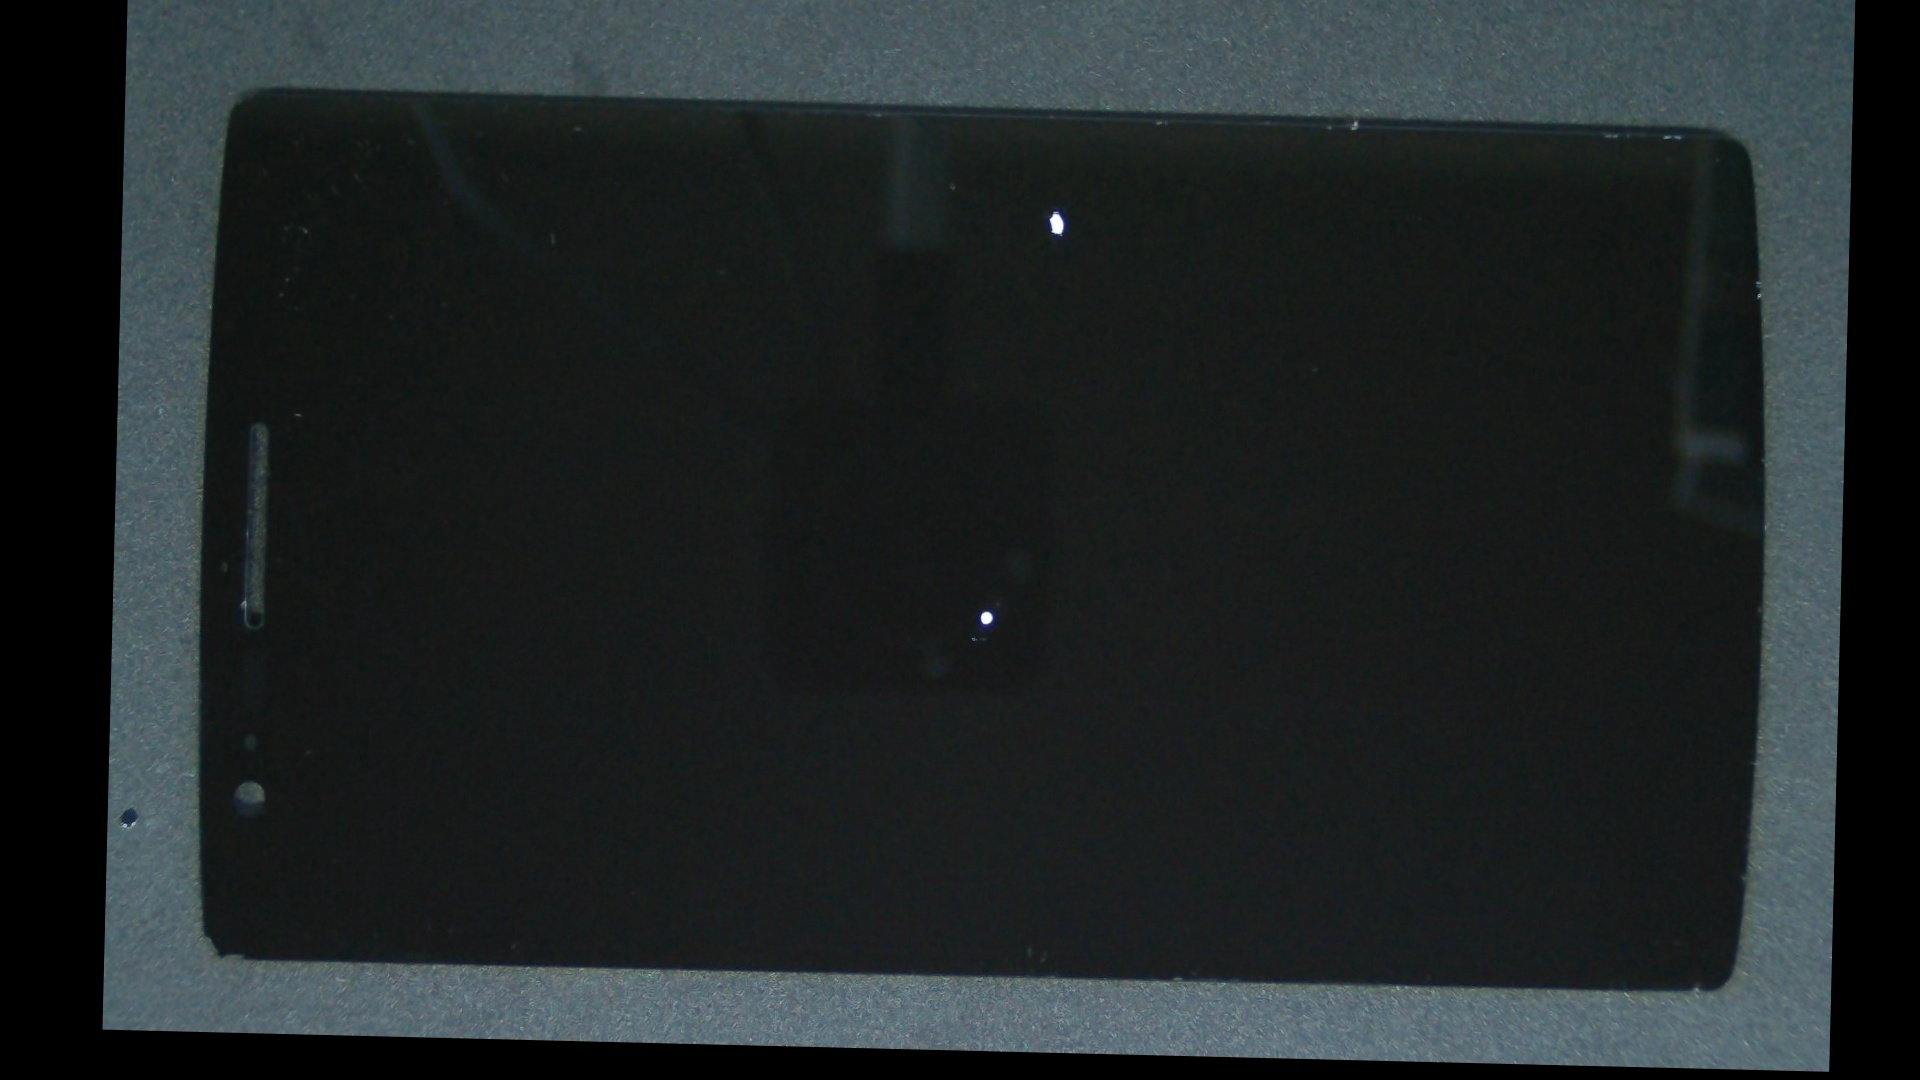oil: (542, 280, 1429, 940), (584, 79, 1518, 339)
